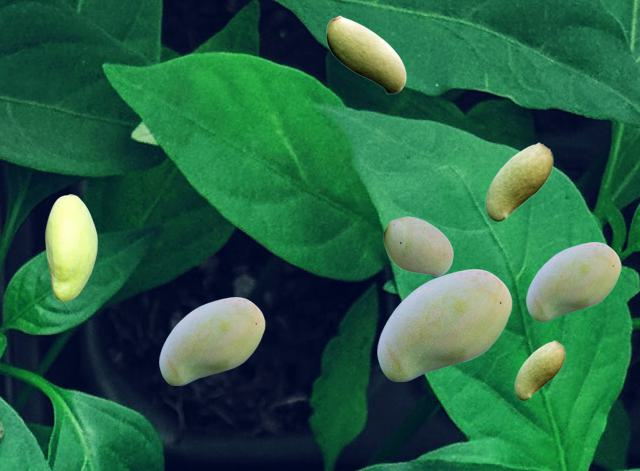green_mango: (377, 269, 511, 380), (159, 297, 264, 384), (526, 242, 620, 320), (326, 15, 405, 93), (45, 194, 96, 300), (485, 142, 552, 220), (383, 216, 452, 275), (514, 340, 564, 399)
